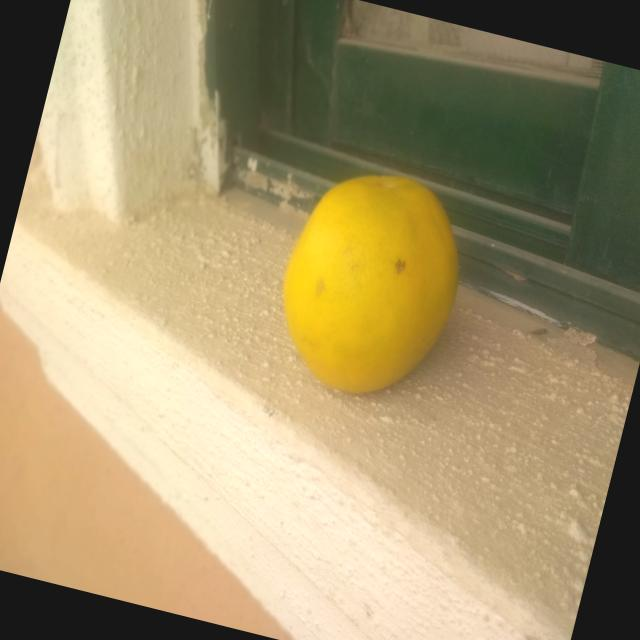Ripe orange: (258, 150, 485, 417)
